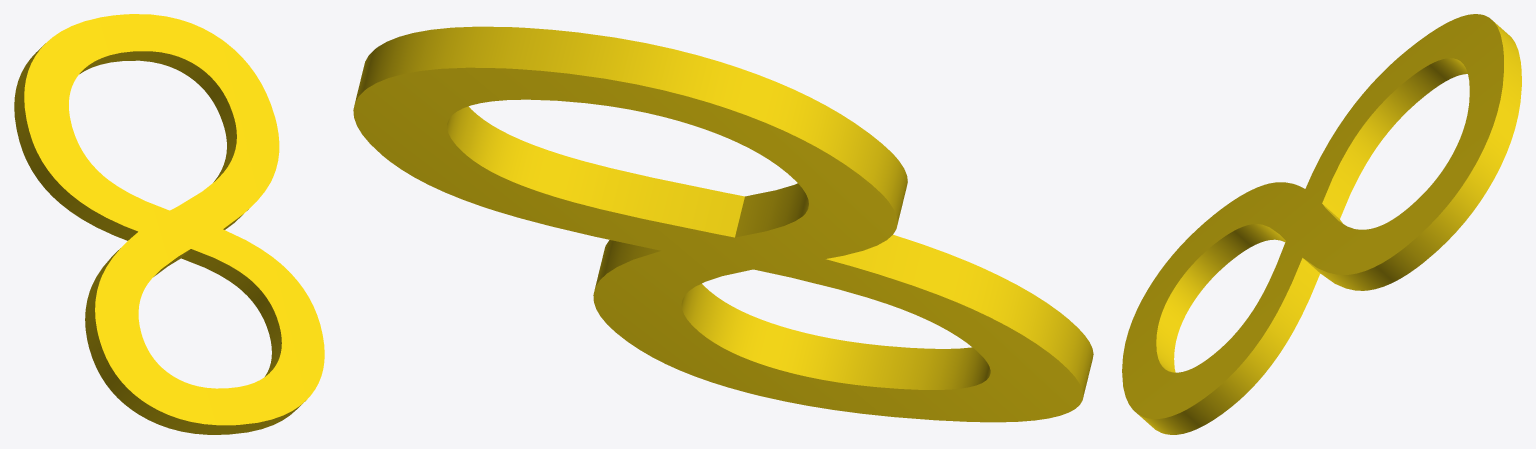
File: Number_8.gltf
3 renders of one model, left to right at view 1: azimuth 30°, elevation 25°; view 2: azimuth 150°, elevation 25°; view 3: azimuth 270°, elevation 25°, orthographic. The views are drawn at different scales.
Visible parts, largest first — view 1: Sub_6_Cell_2_3_Number_8; view 2: Sub_6_Cell_2_3_Number_8; view 3: Sub_6_Cell_2_3_Number_8.
Part boxes in pixels (x1=…): Sub_6_Cell_2_3_Number_8: x1=14, y1=14, x2=324, y2=434; Sub_6_Cell_2_3_Number_8: x1=353, y1=26, x2=1093, y2=422; Sub_6_Cell_2_3_Number_8: x1=1122, y1=14, x2=1521, y2=434.
Size of the model in its own units: 0.0173 by 0.0193 by 0.0193.
